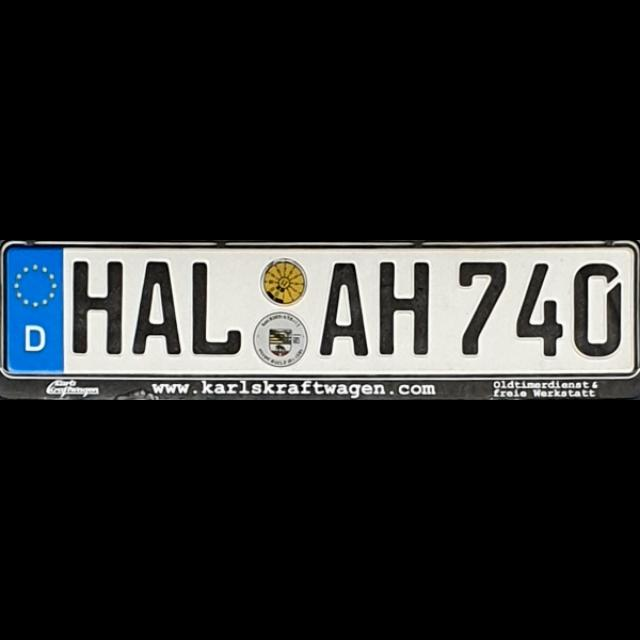d_license_plate: (4, 242, 634, 374)
